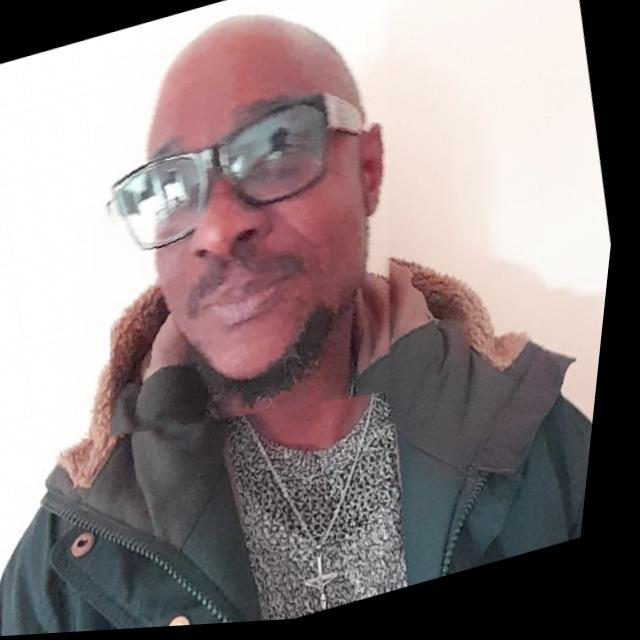happy: (40, 0, 468, 464)
